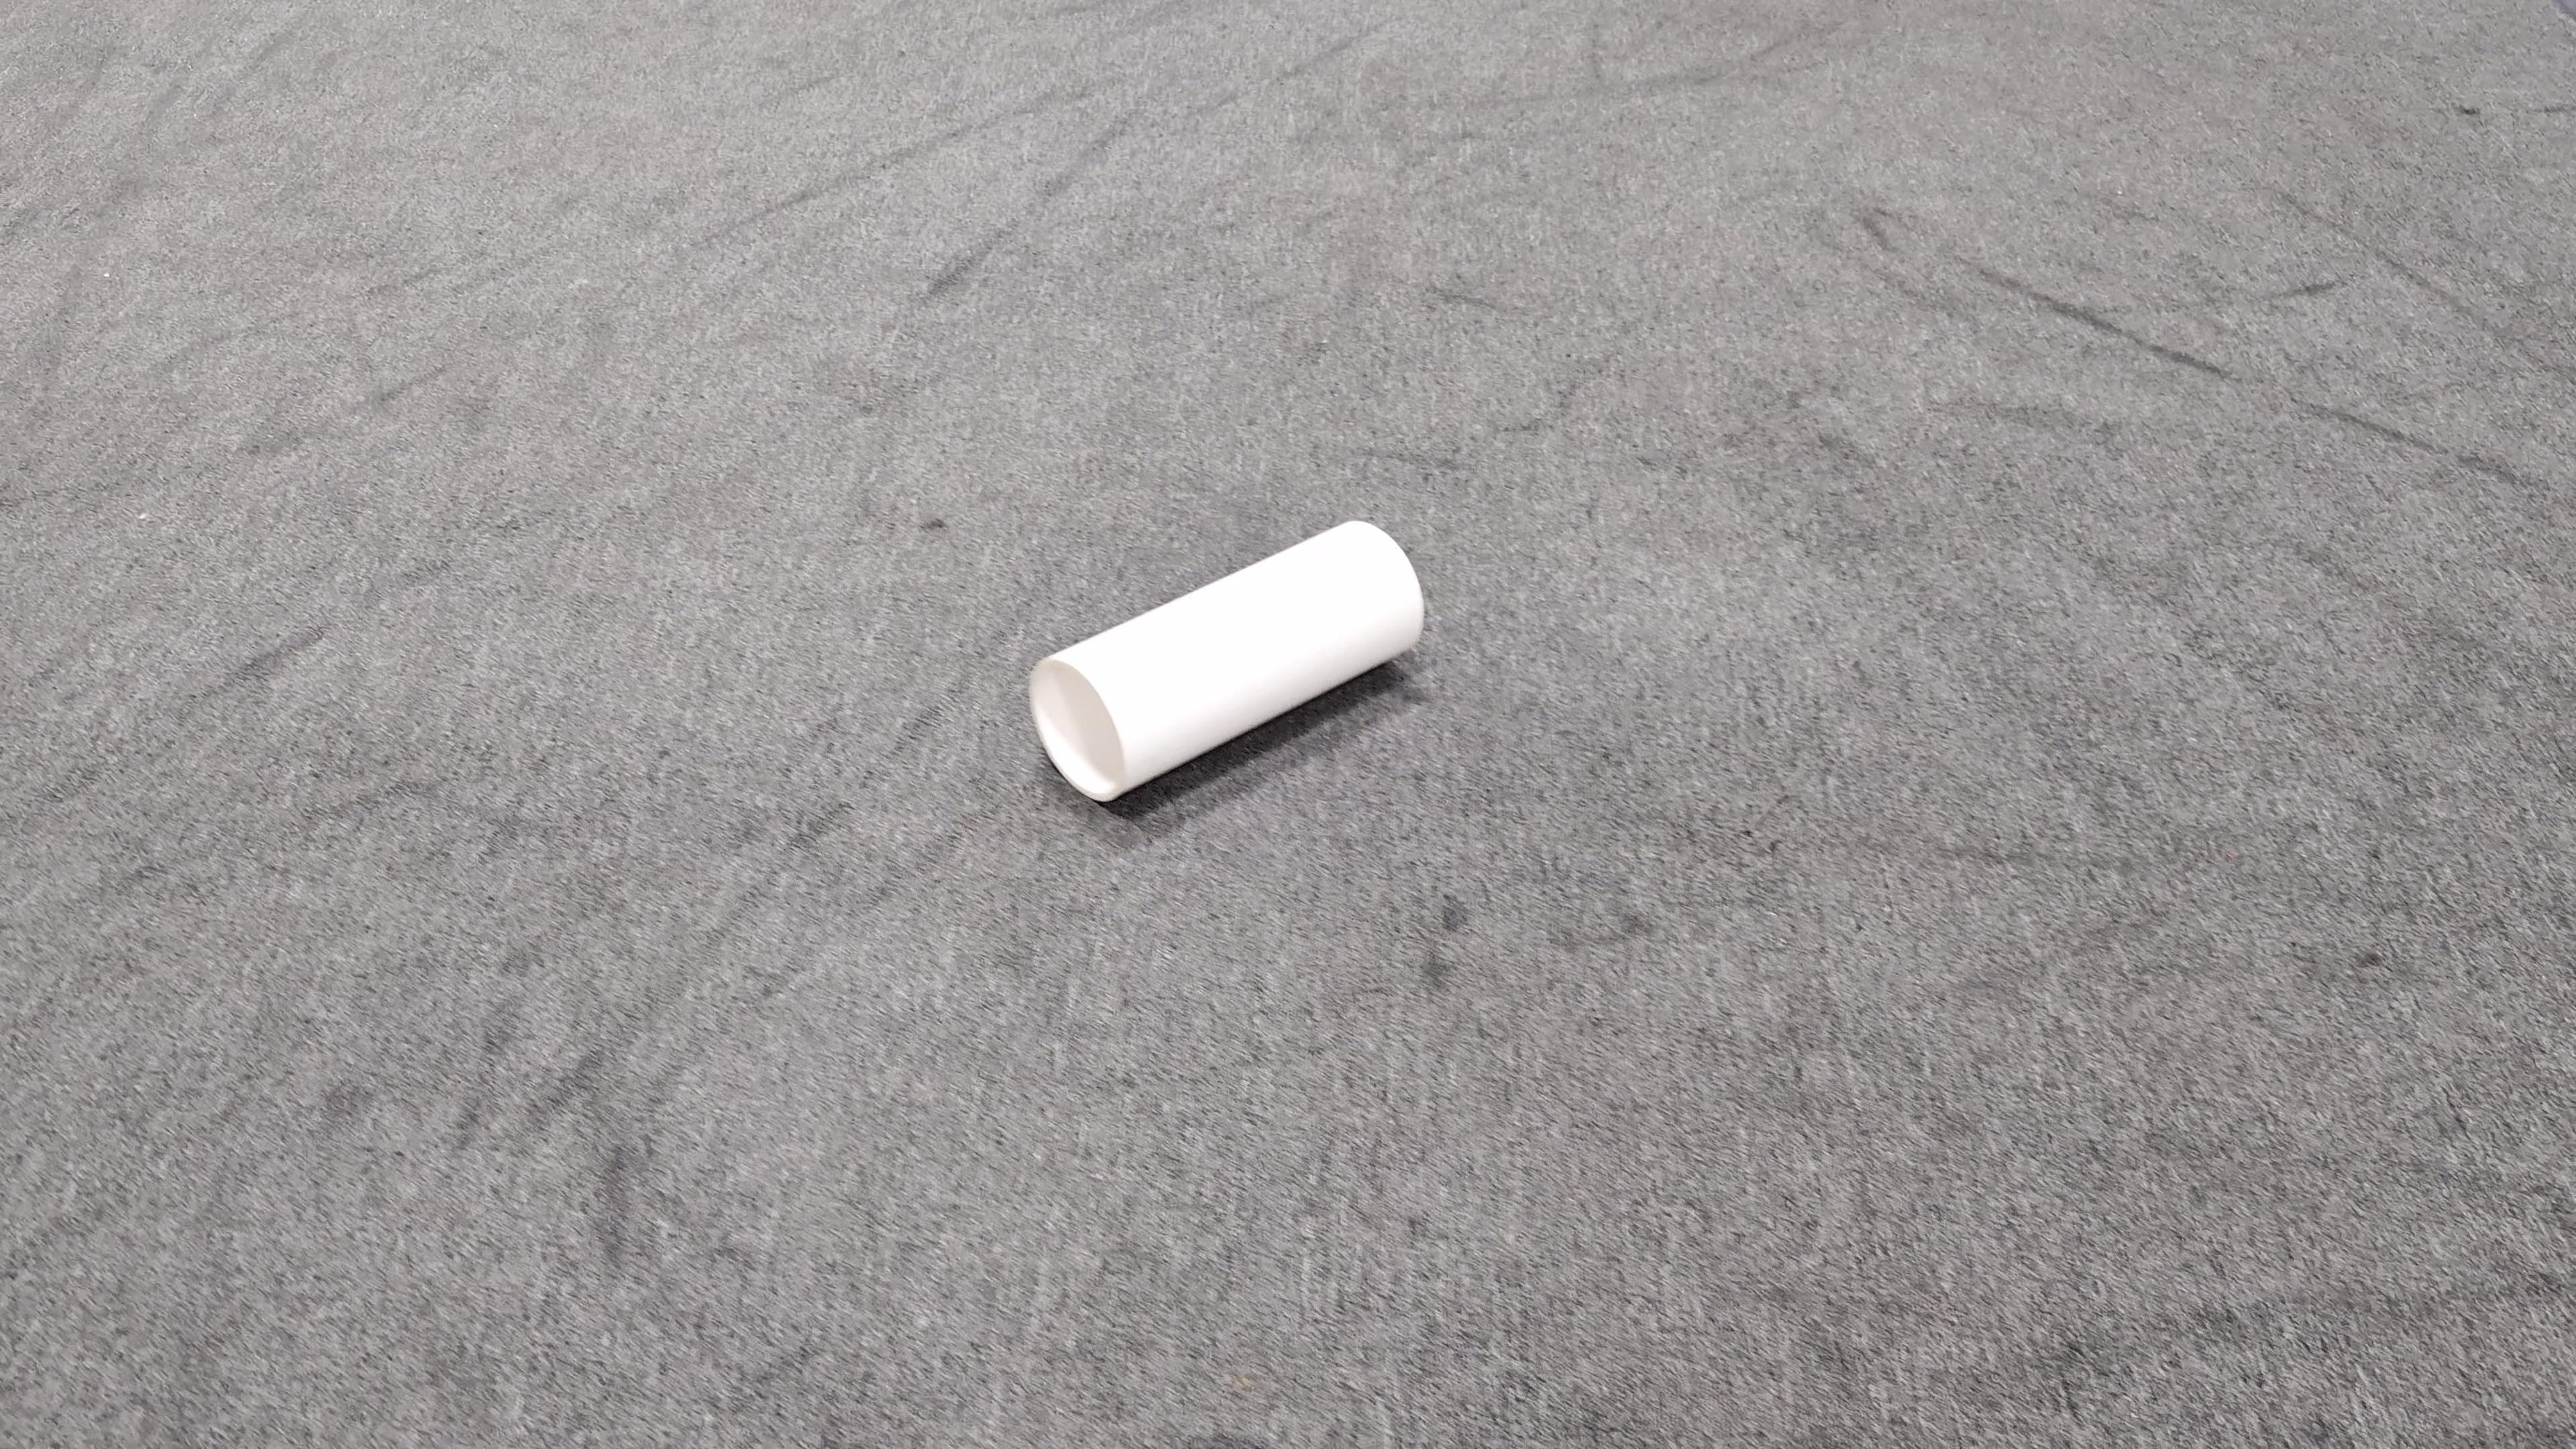coral: (1026, 517, 1428, 801)
